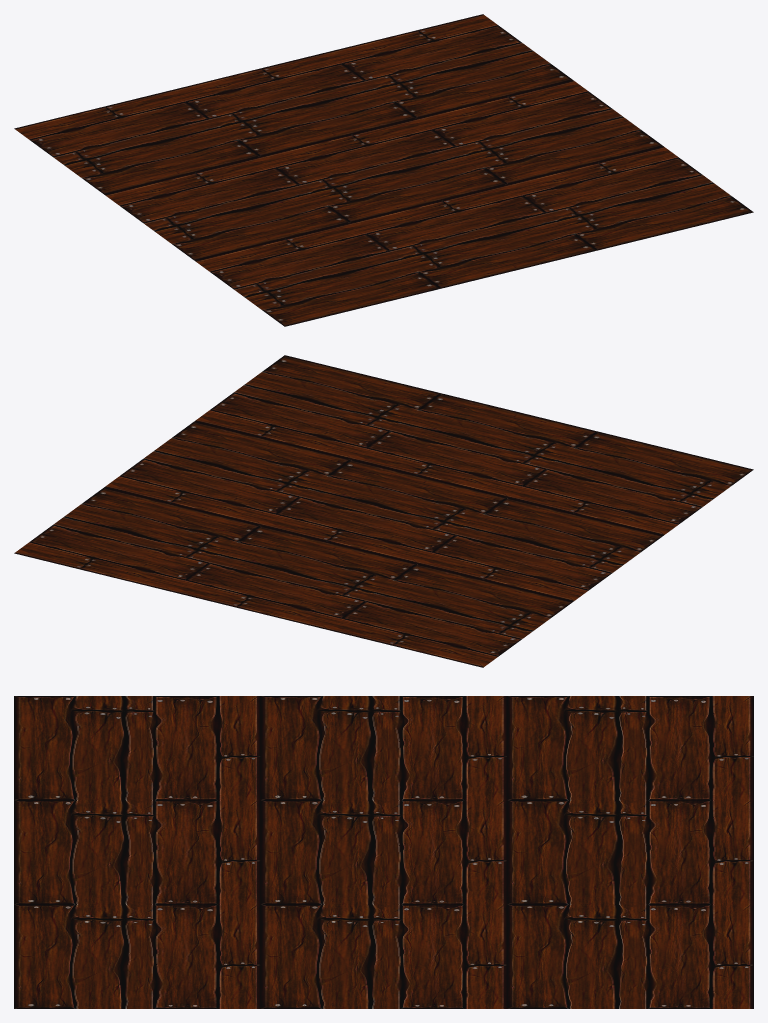
The model's file is tileable_stylized_wooden_floor_texture.glb.
The picture shows the model from 3 angles, top to bottom: view 1: azimuth 30°, elevation 25°; view 2: azimuth 150°, elevation 25°; view 3: azimuth 270°, elevation 25°; orthographic projection. The views are drawn at different scales.
Parts seen in each view (by area): view 1: Plane002_Material #46_0; view 2: Plane002_Material #46_0; view 3: Plane002_Material #46_0.
Boxes of the visible parts, <box> form: Plane002_Material #46_0: <box>14,14,753,326</box>; Plane002_Material #46_0: <box>14,355,753,667</box>; Plane002_Material #46_0: <box>14,696,753,1008</box>.
Size of the model in its own units: 300 by 6.2e-06 by 300.
Materials: 1 (1 with a texture image).
